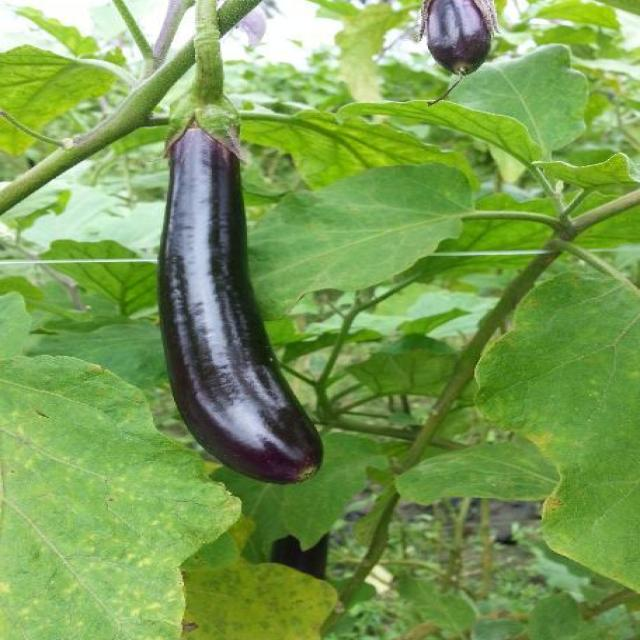eggplant: (145, 81, 332, 492)
